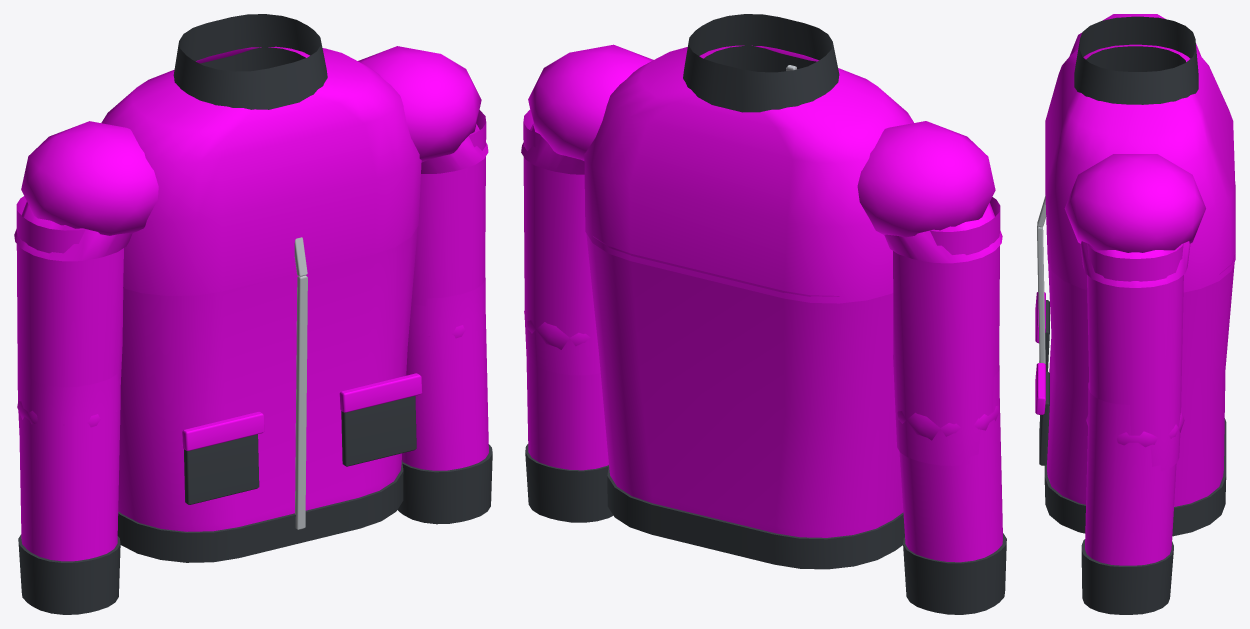
The model's file is porte_veste.glb.
3 renders of one model, left to right at view 1: azimuth 30°, elevation 25°; view 2: azimuth 150°, elevation 25°; view 3: azimuth 270°, elevation 25°, orthographic. The views are drawn at different scales.
Parts seen in each view (by area): view 1: poitrine__veste_teinte.002, ventre__veste_teinte.002, ventre__veste_teinte_sombre.002, avantbras_d__veste_teinte.002, bras_d__veste_teinte.002, avantbras_g__veste_teinte.002, poitrine__veste_teinte_sombre.002, bras_g__veste_teinte.002, avantbras_d__veste_teinte_sombre.002, avantbras_g__veste_teinte_sombre.002, ventre__veste_fermeture.002; view 2: poitrine__veste_teinte.002, ventre__veste_teinte.002, bras_d__veste_teinte.002, bras_g__veste_teinte.002, poitrine__veste_teinte_sombre.002, avantbras_d__veste_teinte.002, ventre__veste_teinte_sombre.002, avantbras_g__veste_teinte.002, avantbras_d__veste_teinte_sombre.002, avantbras_g__veste_teinte_sombre.002; view 3: poitrine__veste_teinte.002, ventre__veste_teinte.002, bras_g__veste_teinte.002, avantbras_g__veste_teinte.002, poitrine__veste_teinte_sombre.002, avantbras_g__veste_teinte_sombre.002, ventre__veste_teinte_sombre.002, ventre__veste_fermeture.002.
Boxes of the visible parts, box(x1,y1,x2,y2) form: poitrine__veste_teinte.002: box(14, 46, 488, 295); ventre__veste_teinte.002: box(118, 227, 422, 531); ventre__veste_teinte_sombre.002: box(117, 396, 416, 562); avantbras_d__veste_teinte.002: box(17, 374, 120, 561); bras_d__veste_teinte.002: box(16, 196, 123, 434); avantbras_g__veste_teinte.002: box(402, 278, 488, 470); poitrine__veste_teinte_sombre.002: box(173, 14, 327, 109); bras_g__veste_teinte.002: box(410, 110, 486, 316); avantbras_d__veste_teinte_sombre.002: box(18, 534, 120, 614); avantbras_g__veste_teinte_sombre.002: box(397, 444, 492, 524); ventre__veste_fermeture.002: box(295, 275, 307, 529); poitrine__veste_teinte.002: box(521, 44, 1002, 303); ventre__veste_teinte.002: box(586, 233, 903, 537); bras_d__veste_teinte.002: box(893, 197, 1000, 465); bras_g__veste_teinte.002: box(523, 109, 600, 375); poitrine__veste_teinte_sombre.002: box(683, 14, 839, 112); avantbras_d__veste_teinte.002: box(897, 365, 1002, 562); ventre__veste_teinte_sombre.002: box(607, 465, 904, 569); avantbras_g__veste_teinte.002: box(524, 311, 608, 470); avantbras_d__veste_teinte_sombre.002: box(903, 533, 1006, 614); avantbras_g__veste_teinte_sombre.002: box(525, 444, 613, 522); poitrine__veste_teinte.002: box(1045, 14, 1235, 292); ventre__veste_teinte.002: box(1035, 185, 1235, 506); bras_g__veste_teinte.002: box(1087, 243, 1183, 471); avantbras_g__veste_teinte.002: box(1085, 382, 1184, 565); poitrine__veste_teinte_sombre.002: box(1074, 16, 1198, 104); avantbras_g__veste_teinte_sombre.002: box(1081, 539, 1173, 614); ventre__veste_teinte_sombre.002: box(1039, 300, 1226, 536); ventre__veste_fermeture.002: box(1037, 225, 1045, 363).
Size of the model in its own units: 0.64 by 0.67 by 0.2598.
